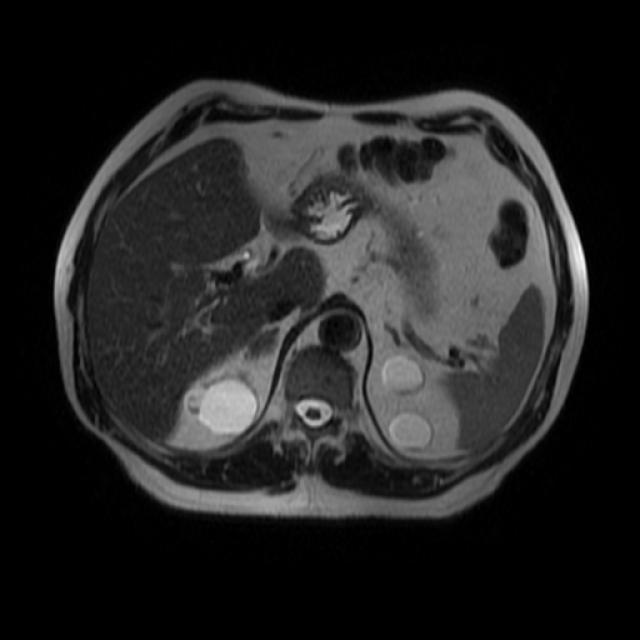sag: (183, 366, 259, 438)
sol: (380, 355, 433, 451)
